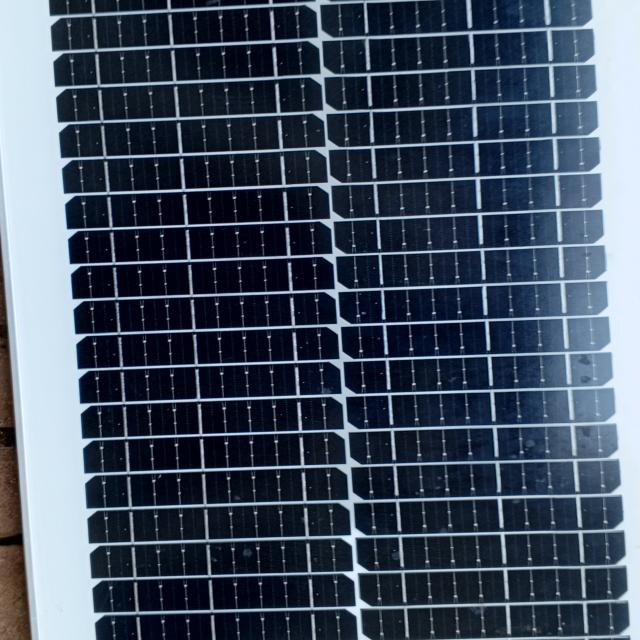Clean: (28, 15, 631, 638)
